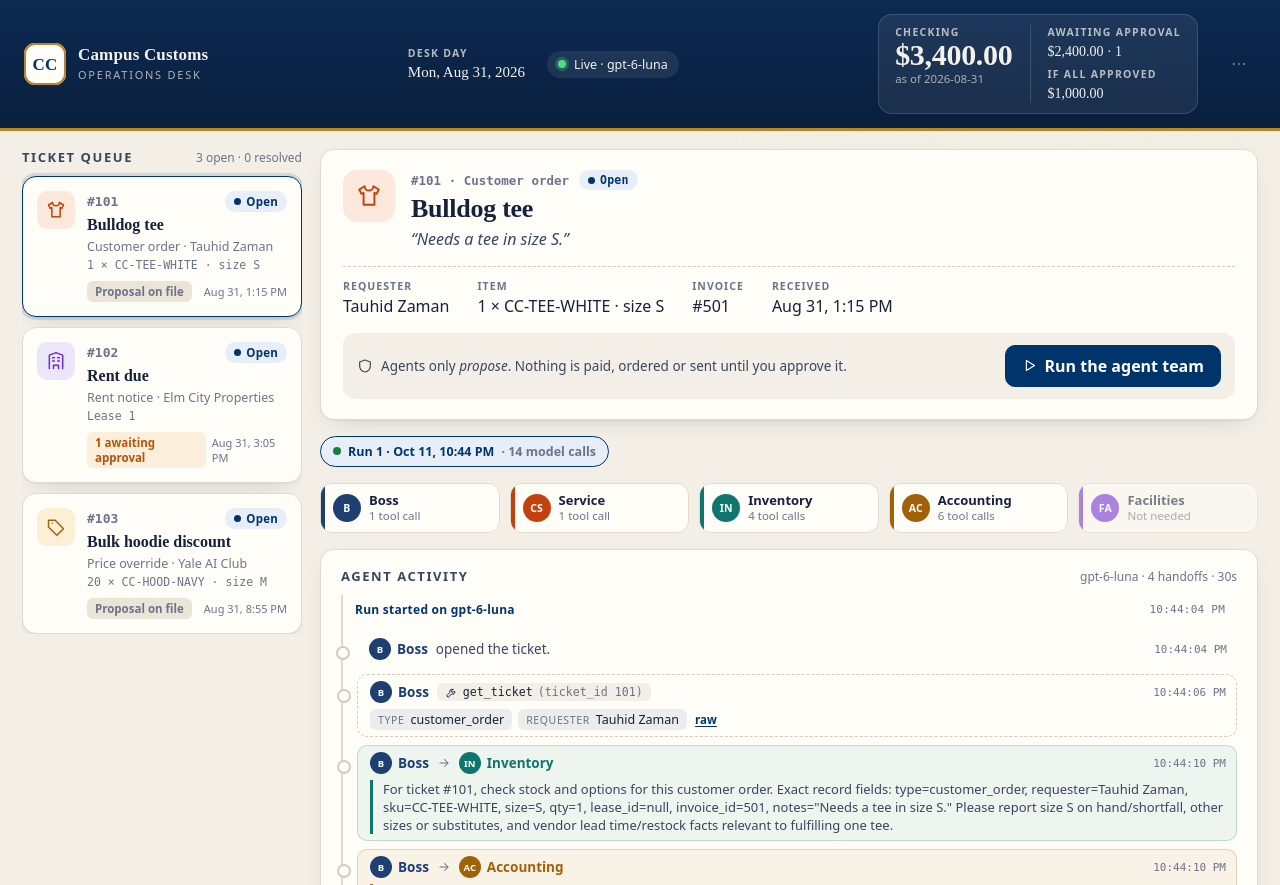
dashboard › keeps the approval dialog open and explains a refusal from the backend
Click the button "Rent due". click: (162, 405)
box: [22,327,302,483]
(page scrolled)
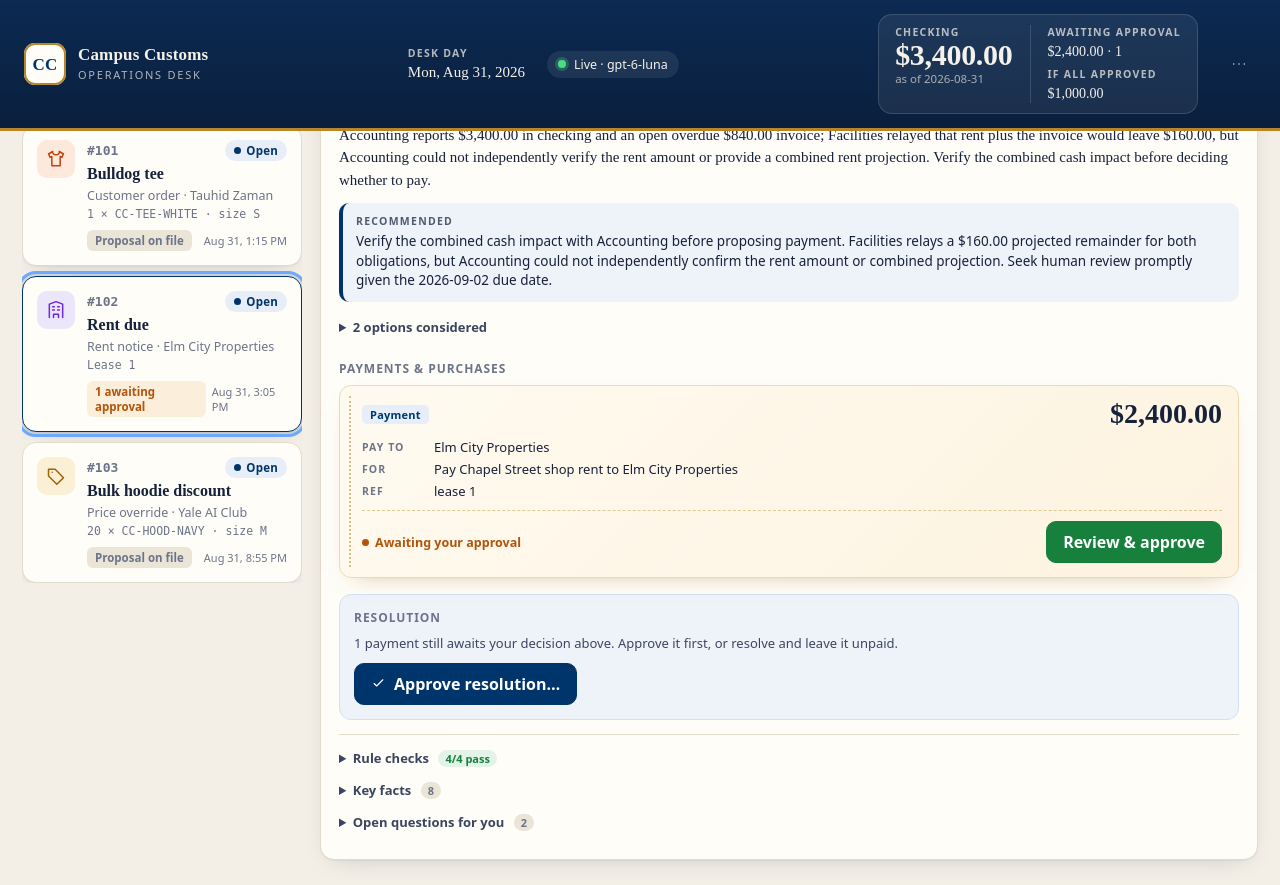
Click the button "Review & approve". click: (1134, 542)
box: [1046,521,1222,563]
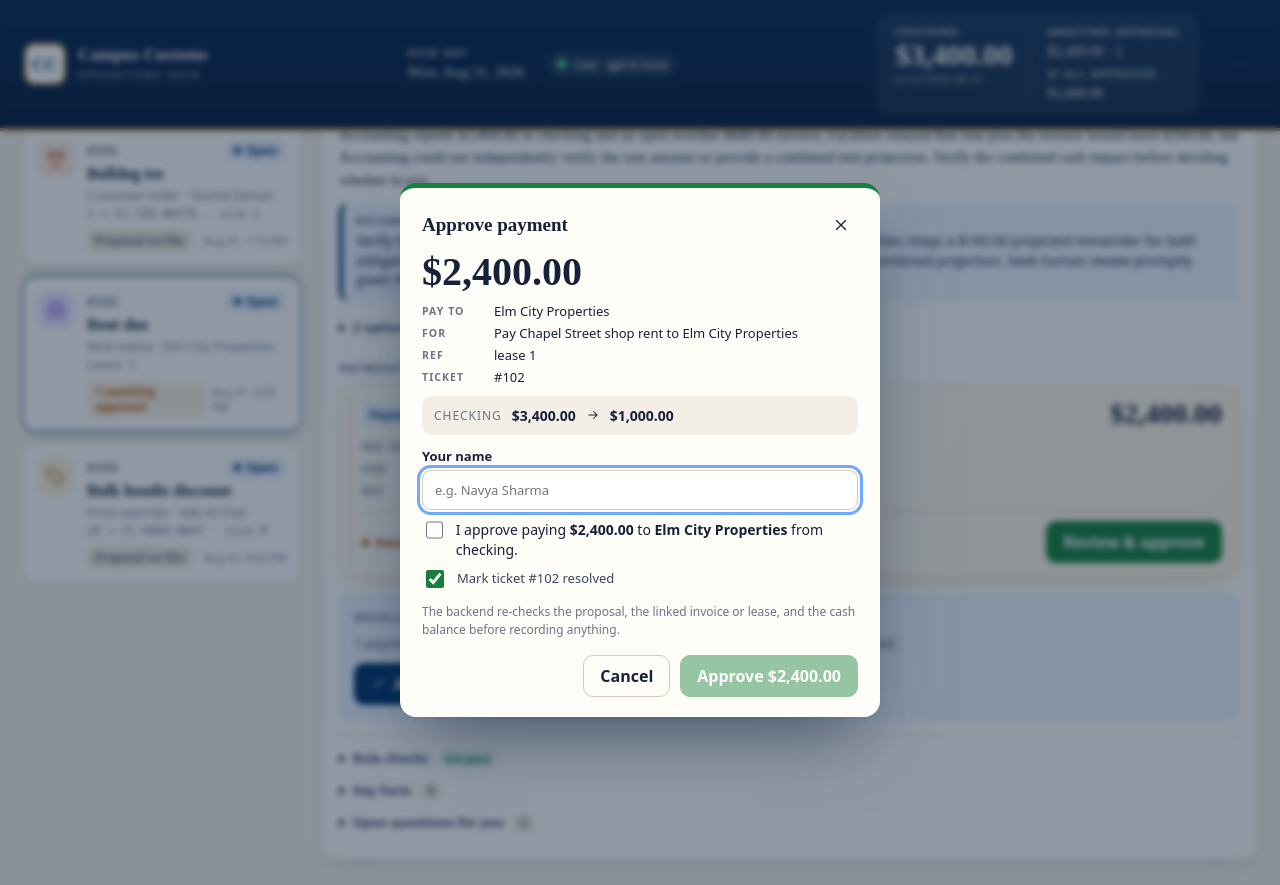
Type "Navya Sharma" into the field labelled "Your name". click: (640, 490)
box: [422,470,858,510]
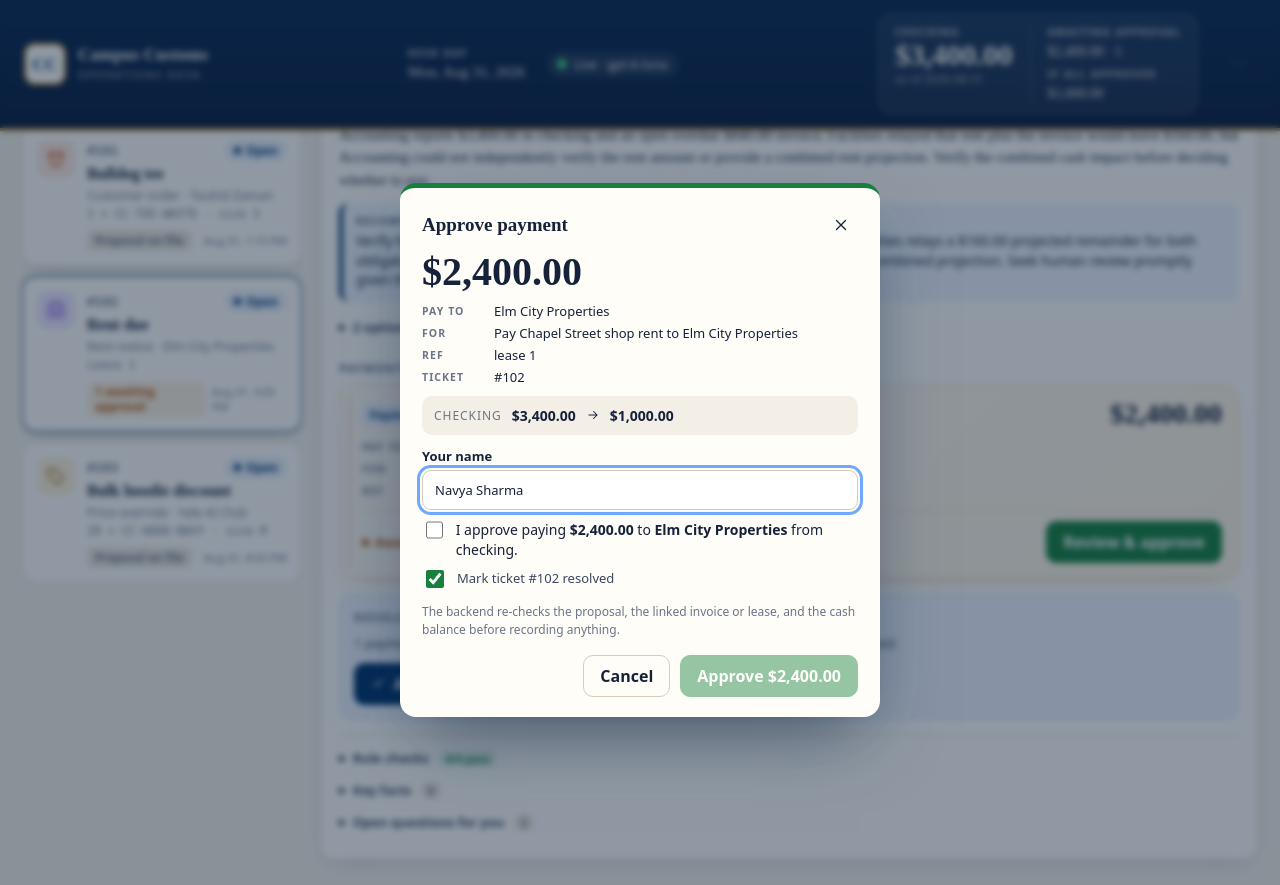
Click the checkbox labelled "I approve paying". click: (434, 530)
box: [426,521,443,539]
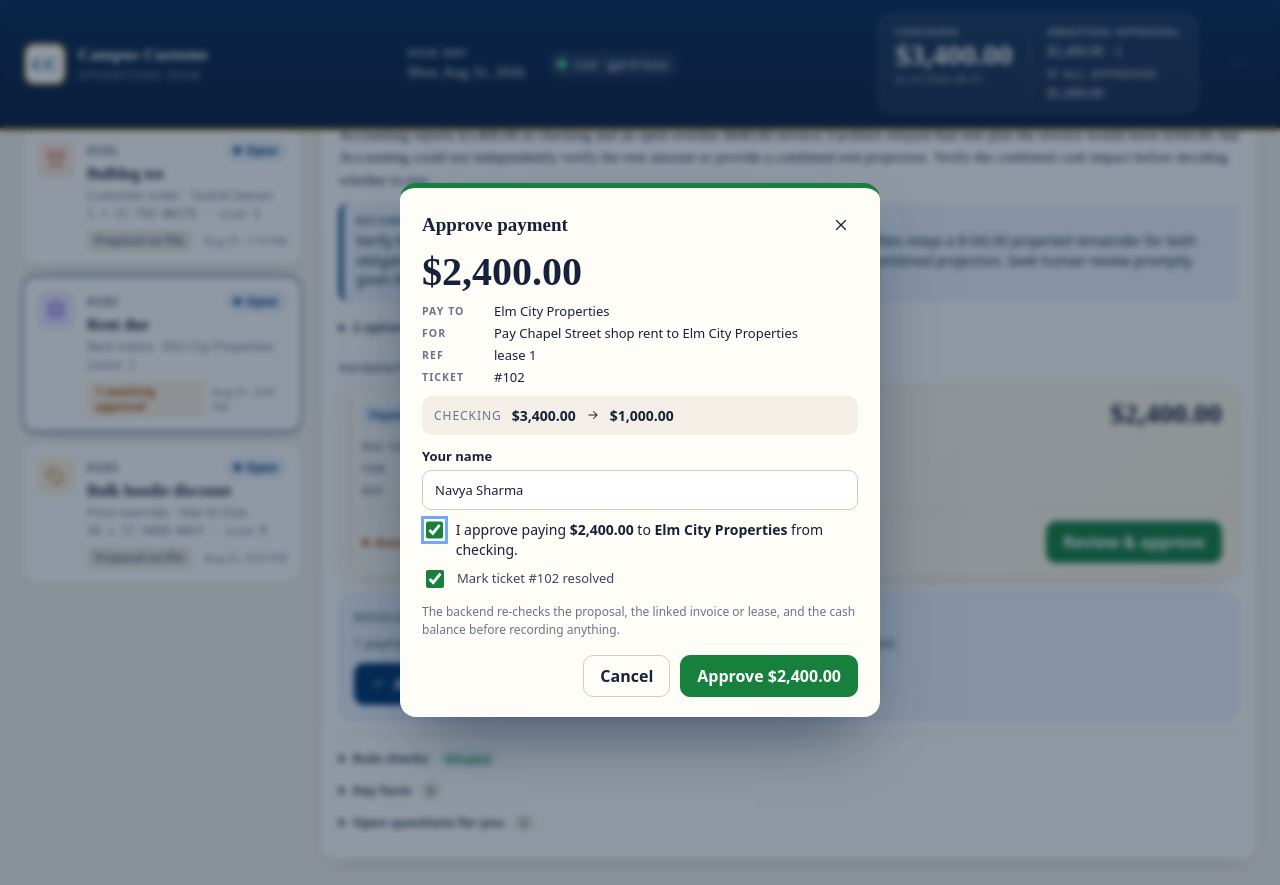
Click the button "Approve $2,400.00". click: (769, 676)
box: [680,655,858,697]
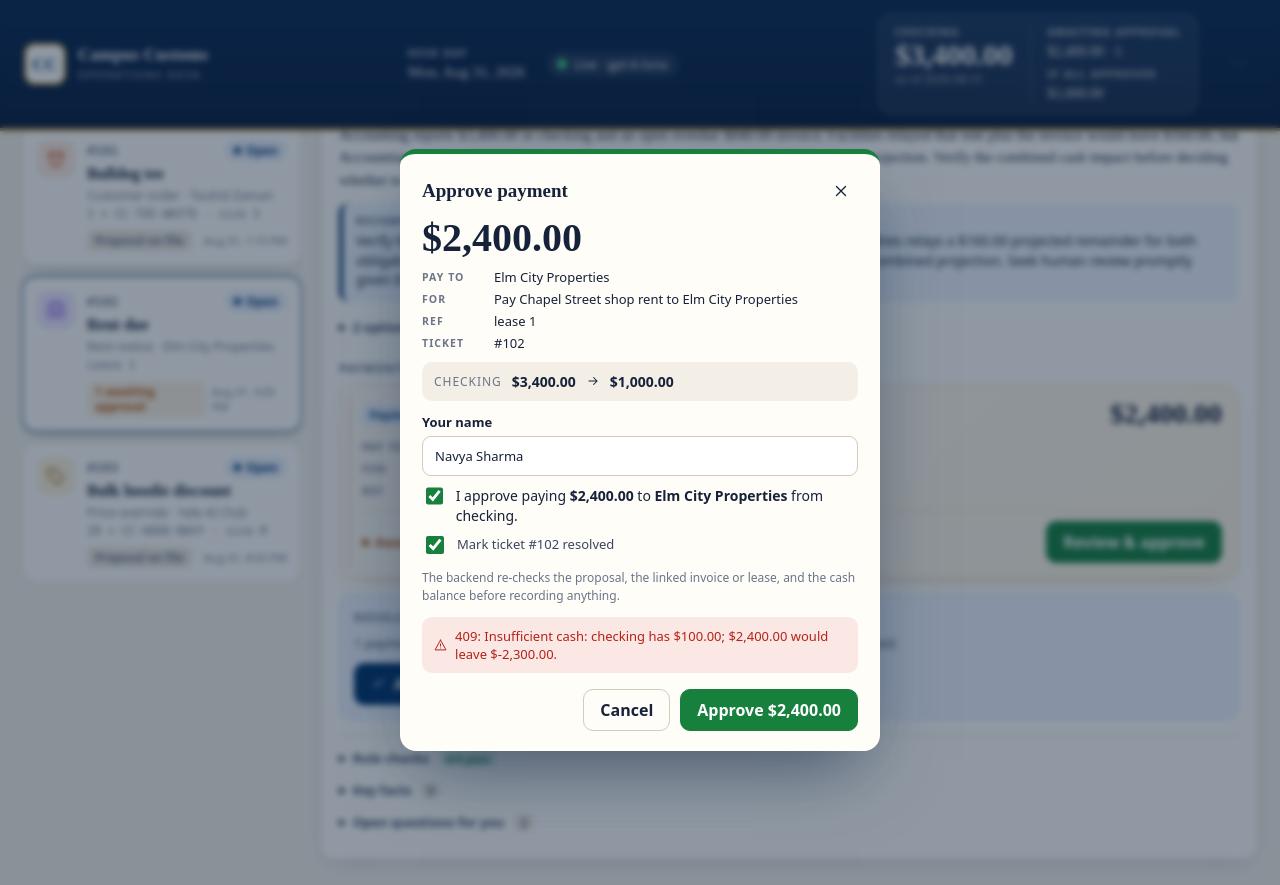
Expected: the text with test id "cash-balance" reads "$3,400.00", [895,38,1012,71]
Expected: the message shows "409: Insufficient cash", [455,627,828,663]
